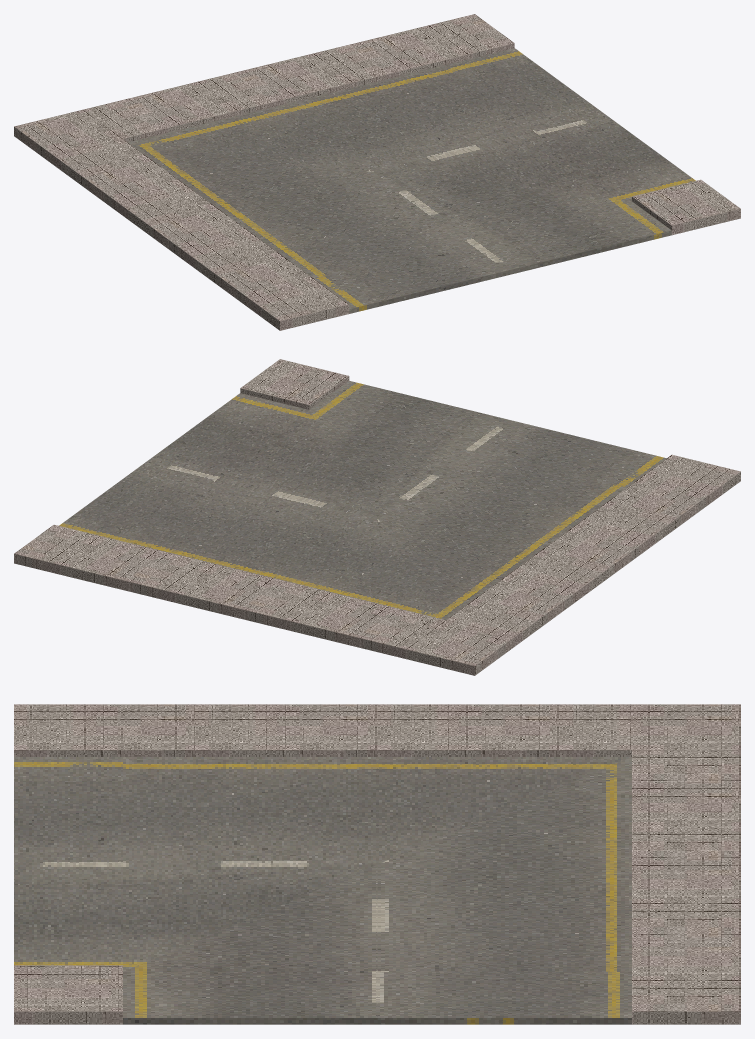
Rendered from road_1_corner.glb.
3 renders of one model, top to bottom at view 1: azimuth 30°, elevation 25°; view 2: azimuth 150°, elevation 25°; view 3: azimuth 270°, elevation 25°, orthographic. The views are drawn at different scales.
Parts seen in each view (by area): view 1: road_1_corner; view 2: road_1_corner; view 3: road_1_corner.
Boxes of the visible parts, bbox=[...] form: road_1_corner: bbox=[14, 14, 740, 330]; road_1_corner: bbox=[14, 359, 740, 675]; road_1_corner: bbox=[14, 704, 740, 1024].
Size of the model in its own units: 16 by 0.32 by 16.
2 materials, 2 textured.
